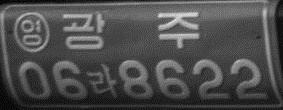0: (17, 60, 51, 100)
2: (192, 58, 230, 100), (230, 57, 267, 100)
6: (154, 59, 191, 101), (52, 61, 87, 99)
8: (119, 59, 153, 100)
광주_D: (60, 11, 200, 50)
라: (88, 64, 118, 98)
영: (12, 11, 50, 52)
